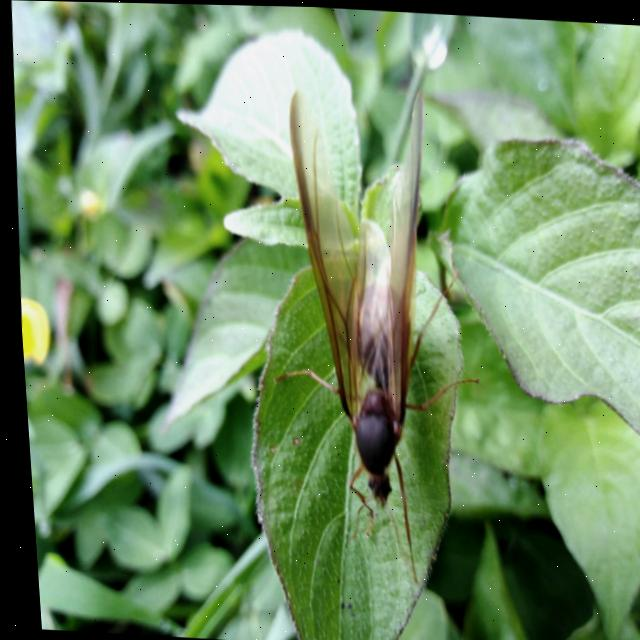Alive-Male-Alate: (244, 76, 497, 588)
